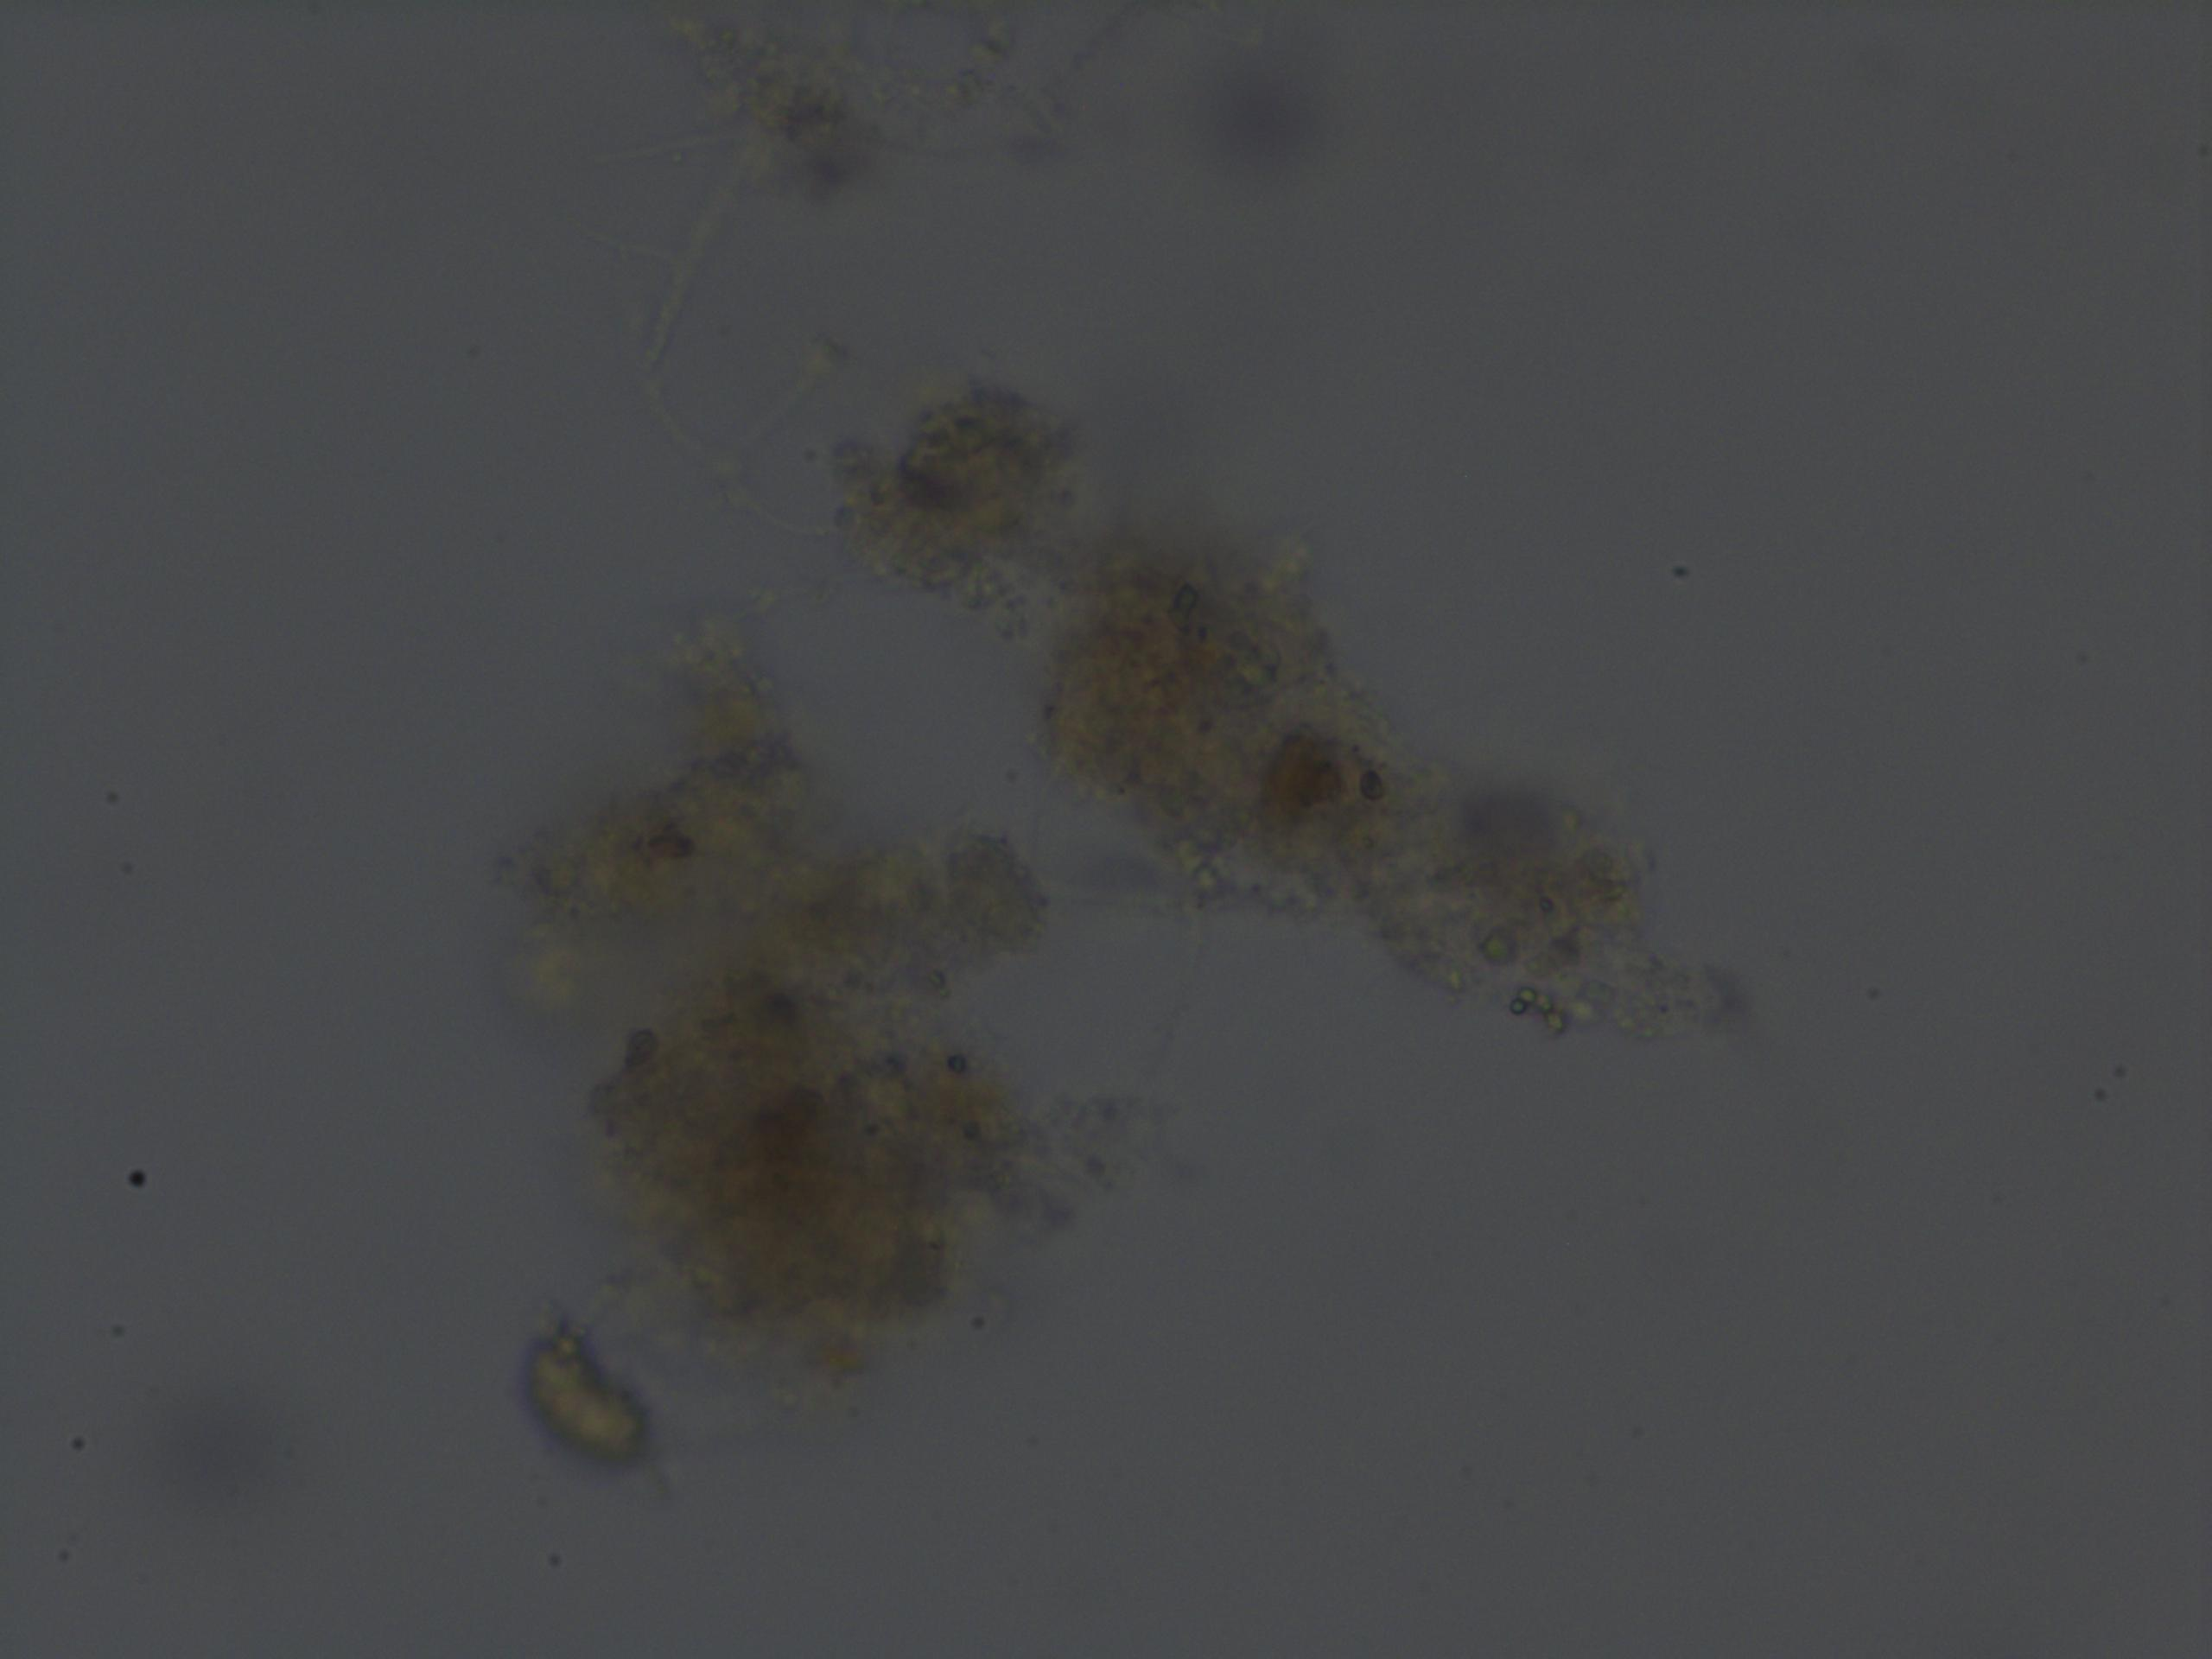filament: (639, 26, 789, 364)
open_floc: (489, 357, 1773, 1467)
